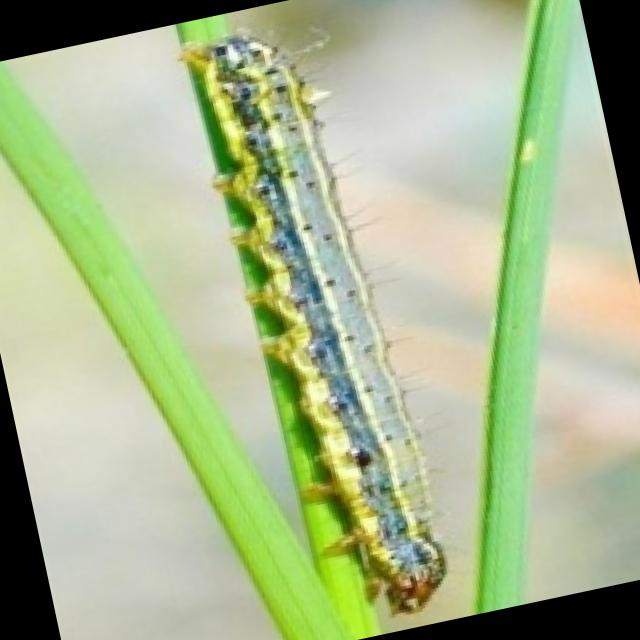armyworm: (163, 4, 469, 640)
